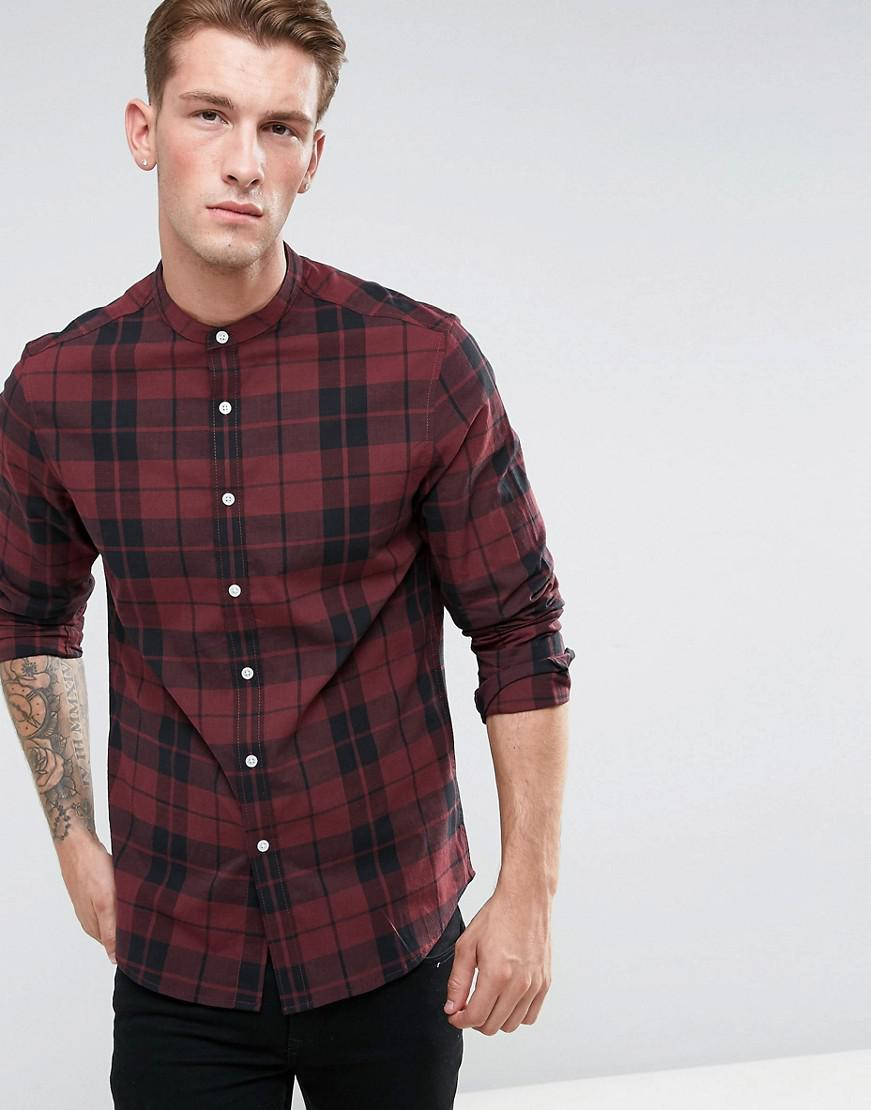teeshirt: (1, 256, 581, 1014)
